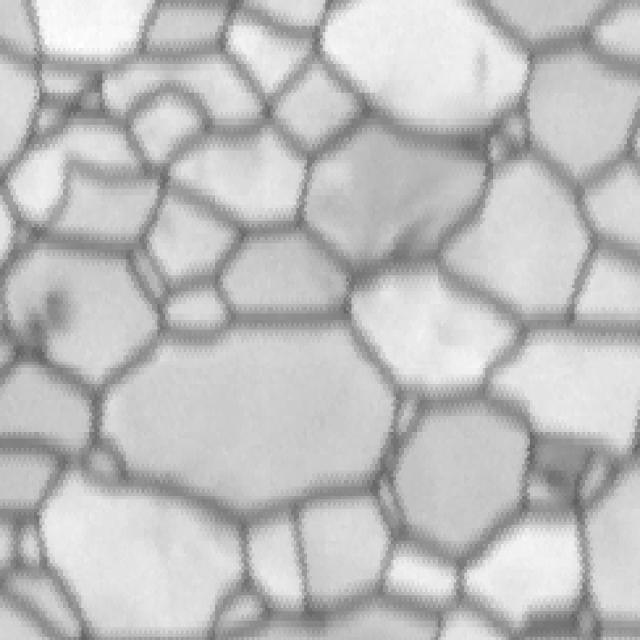good_void: (371, 209, 447, 287), (22, 280, 79, 368), (465, 39, 494, 97), (431, 305, 458, 349)
